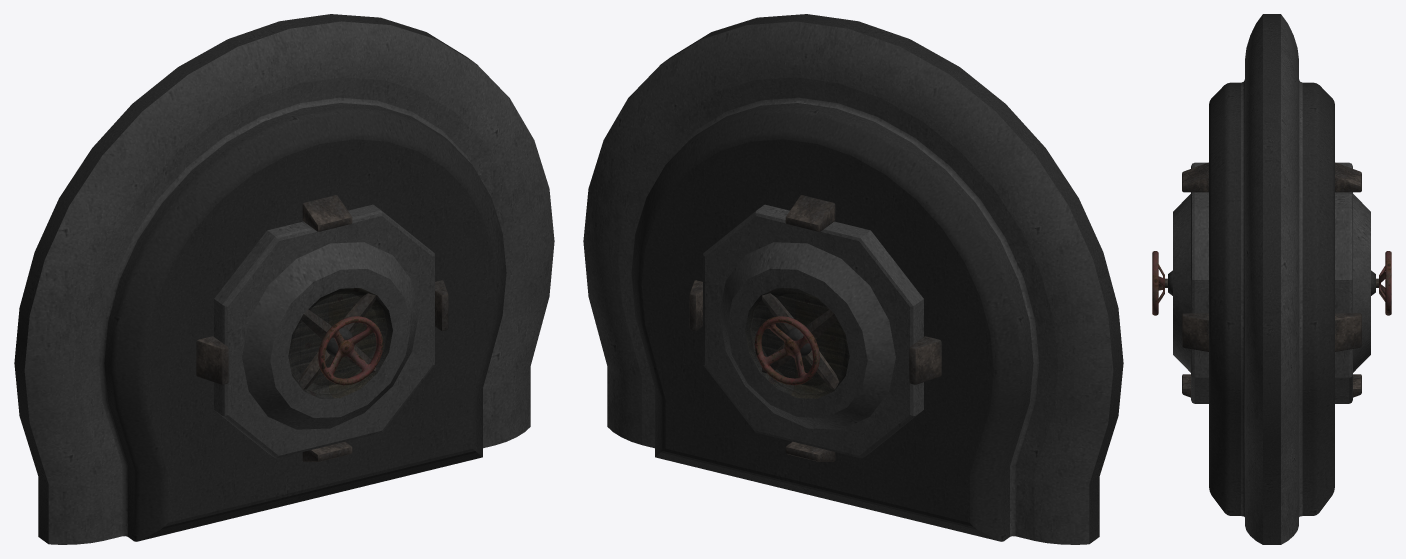
File: blast_door_1.fbx
3 views of the same model, side by side, from view 1: azimuth 30°, elevation 25°; view 2: azimuth 150°, elevation 25°; view 3: azimuth 270°, elevation 25° (orthographic). The views are drawn at different scales.
Parts seen in each view (by area): view 1: blast_door_1, valve_2_a; view 2: blast_door_1, valve_2_b; view 3: blast_door_1, valve_2_b, valve_2_a.
Boxes of the visible parts, x1=… form: blast_door_1: x1=14, y1=14, x2=554, y2=544; valve_2_a: x1=318, y1=316, x2=383, y2=385; blast_door_1: x1=583, y1=14, x2=1123, y2=544; valve_2_b: x1=754, y1=316, x2=819, y2=385; blast_door_1: x1=1168, y1=14, x2=1375, y2=544; valve_2_b: x1=1376, y1=251, x2=1391, y2=315; valve_2_a: x1=1152, y1=251, x2=1167, y2=315.
Size of the model in its own units: 3 by 1.33 by 2.47.
